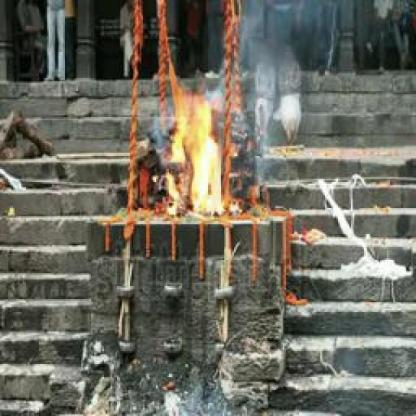fire: (164, 94, 224, 220)
